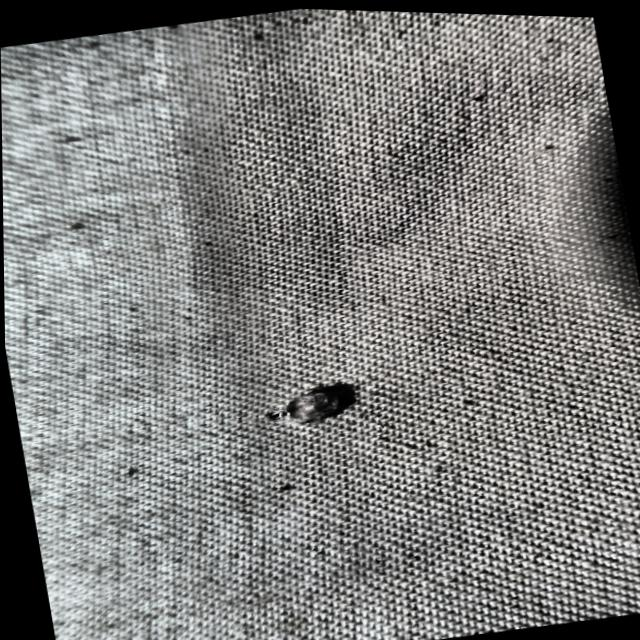Hole: (233, 364, 376, 451)
